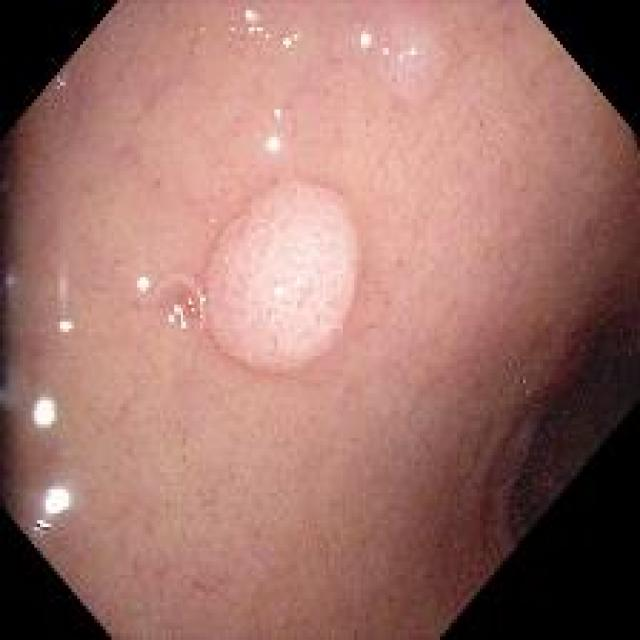Polyps: (202, 180, 358, 372), (371, 13, 448, 102)
